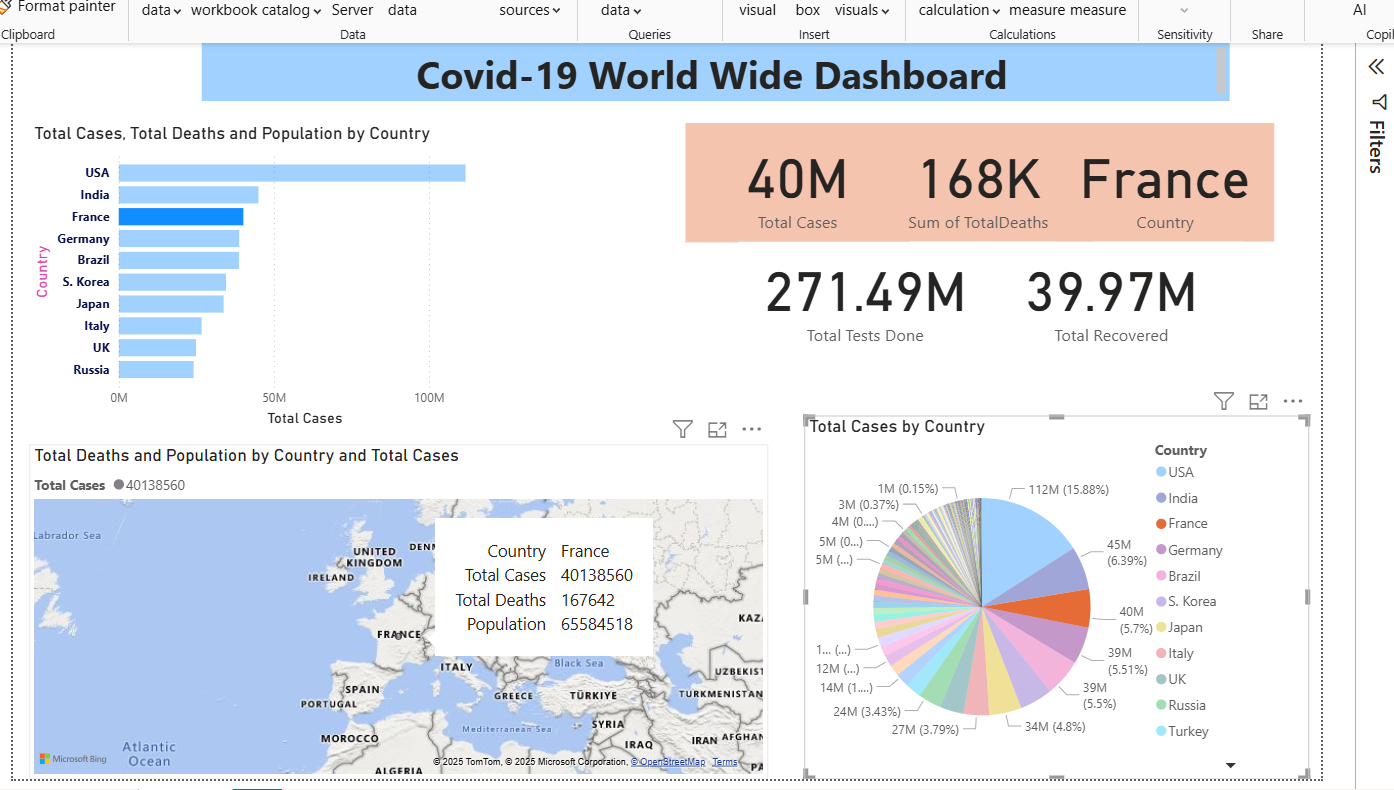

Layout of this report page (visuals, bound fields, positions):
{"tool":"powerbi","page":{"name":"Page 1","canvas":[1280,720],"ordinal":0},"visuals":[{"type":"map","fields":{"Category":["cleanedCovidData.Country"],"Series":["cleanedCovidData.TotalCases"]},"box":[15.7,392.9,722.9,327.1],"z":0},{"type":"decompositionTreeVisual","fields":{"Analyze":["Sum(cleanedCovidData.TotalCases)"],"ExplainBy":["cleanedCovidData.Country","cleanedCovidData.Continent"]},"box":[945.7,417.1,172.9,302.9],"z":1000},{"type":"card","fields":{"Values":["Sum(cleanedCovidData.TotalCases)"]},"box":[657.3,78.2,219.6,116.6],"z":2000},{"type":"card","fields":{"Values":["Sum(cleanedCovidData.TotalDeaths)"]},"box":[834,78.3,221.3,116.2],"z":3000},{"type":"pieChart","fields":{"Category":["cleanedCovidData.Country"],"Y":["Sum(cleanedCovidData.TotalCases)"]},"box":[773.9,365,494,355.4],"z":4000},{"type":"card","fields":{"Values":["Min(cleanedCovidData.Country)"]},"box":[1021.1,78.3,212.8,116.2],"z":5000},{"type":"textbox","box":[184.3,0,1005.7,57.1],"z":6000},{"type":"card","fields":{"Values":["Sum(cleanedCovidData.TotalTests)"]},"box":[709.2,194.4,249.5,105.2],"z":7000},{"type":"card","fields":{"Values":["Sum(cleanedCovidData.TotalRecovered)"]},"box":[945.2,194.4,259.2,105.2],"z":8000},{"type":"barChart","fields":{"Y":["Sum(cleanedCovidData.TotalCases)"],"Category":["cleanedCovidData.Country"]},"box":[15.7,78.6,472.9,301.4],"z":9000}]}

Visuals, with their boxes on the page's 1280x720 design canvas (x1, y1, x2, y2). These are canvas units, not pixel positions in the 1394x790 screenshot, which may show the page scaled, cropped or inside an application window:
map - cleanedCovidData.Country x cleanedCovidData.TotalCases: bbox=[16, 393, 739, 720]
decompositionTreeVisual - Sum(cleanedCovidData.TotalCases) x cleanedCovidData.Country: bbox=[946, 417, 1119, 720]
card - Sum(cleanedCovidData.TotalCases): bbox=[657, 78, 877, 195]
card - Sum(cleanedCovidData.TotalDeaths): bbox=[834, 78, 1055, 194]
pieChart - cleanedCovidData.Country x Sum(cleanedCovidData.TotalCases): bbox=[774, 365, 1268, 720]
card - Min(cleanedCovidData.Country): bbox=[1021, 78, 1234, 194]
textbox: bbox=[184, 0, 1190, 57]
card - Sum(cleanedCovidData.TotalTests): bbox=[709, 194, 959, 300]
card - Sum(cleanedCovidData.TotalRecovered): bbox=[945, 194, 1204, 300]
barChart - Sum(cleanedCovidData.TotalCases) x cleanedCovidData.Country: bbox=[16, 79, 489, 380]
